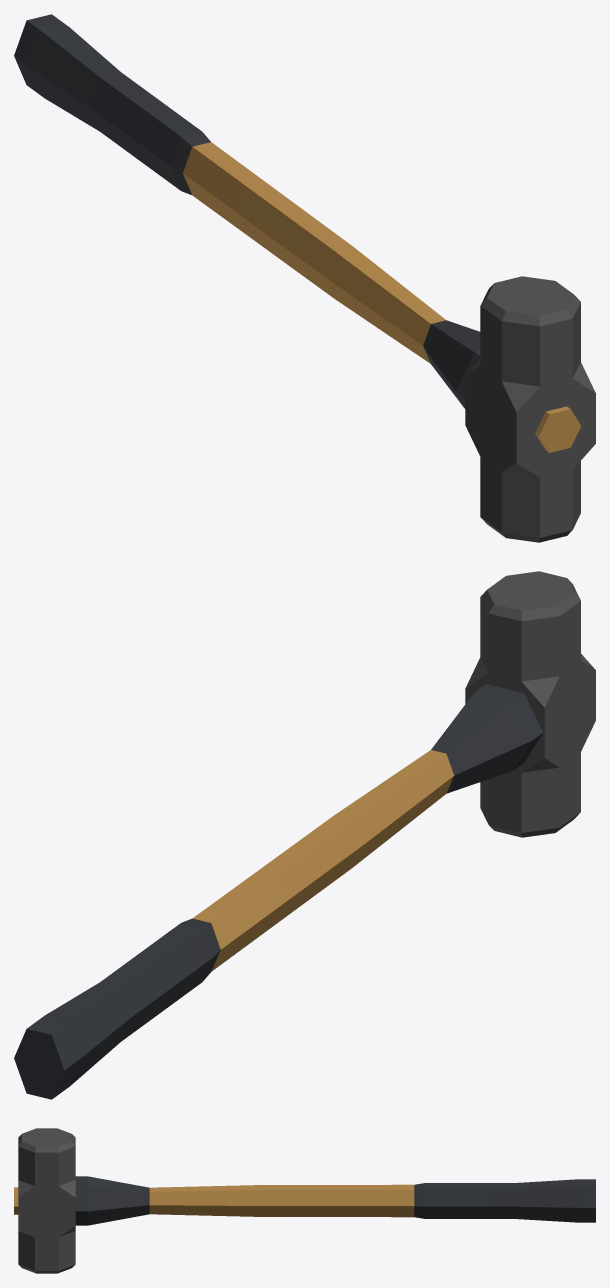
File: SM_Item_Hammer_Sledge.obj
The picture shows the model from 3 angles, top to bottom: view 1: azimuth 30°, elevation 25°; view 2: azimuth 150°, elevation 25°; view 3: azimuth 270°, elevation 25°; orthographic projection. The views are drawn at different scales.
Visible parts, largest first — view 1: SM_Item_Hammer_Sledge_0; view 2: SM_Item_Hammer_Sledge_0; view 3: SM_Item_Hammer_Sledge_0.
Part boxes in pixels (x1,y1,x2,y2): SM_Item_Hammer_Sledge_0: (14, 14, 595, 542); SM_Item_Hammer_Sledge_0: (14, 571, 595, 1099); SM_Item_Hammer_Sledge_0: (14, 1128, 595, 1273).
Bounding box in the file's own units: 0.0872 × 0.2381 × 0.9919.
Materials: 1 (1 with a texture image).
